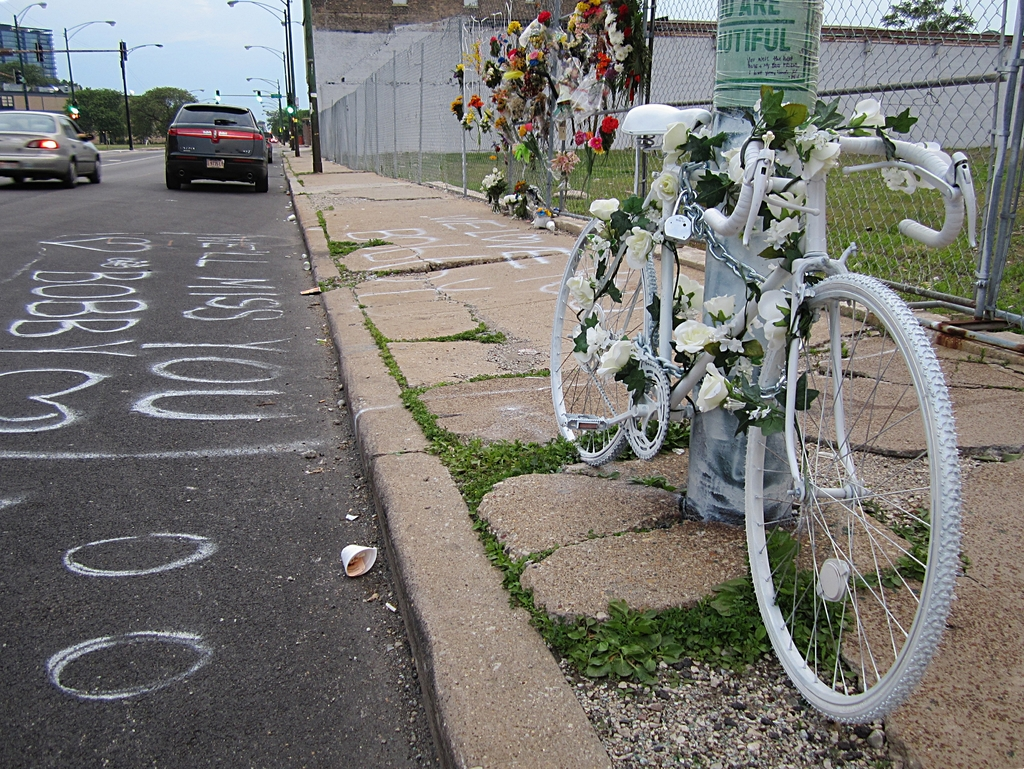car: (144, 84, 287, 202), (1, 98, 135, 200)
